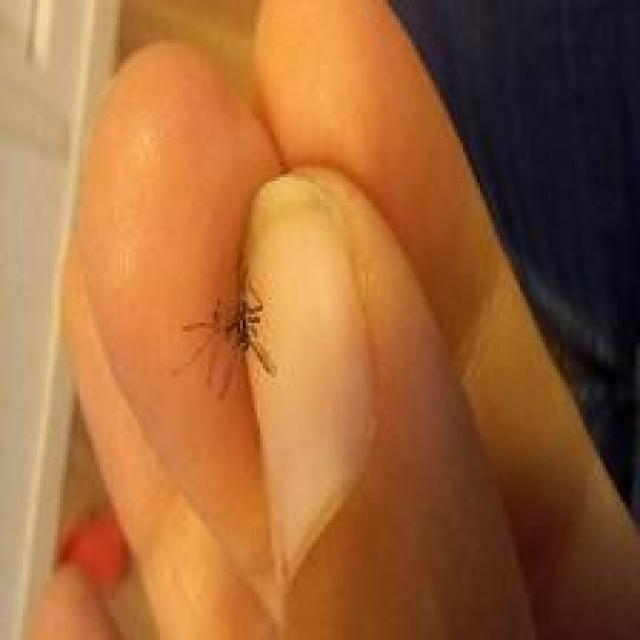Aedes albopictus: (170, 270, 279, 401)
